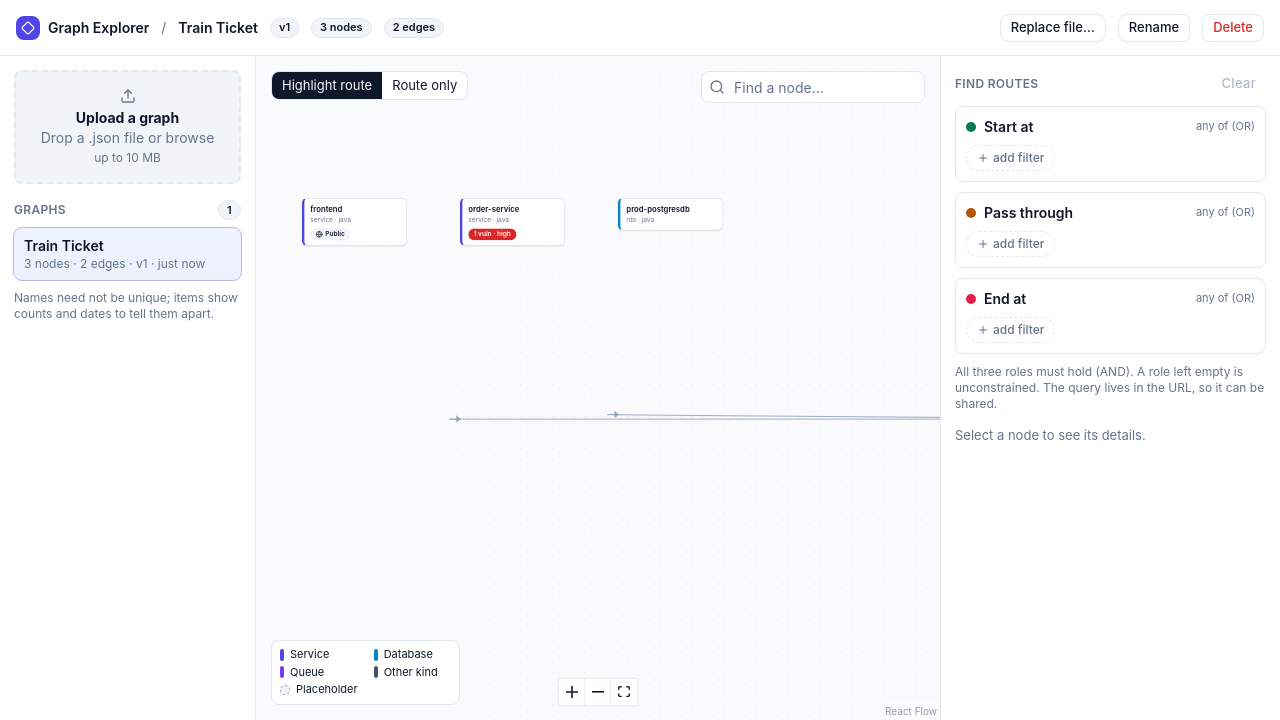
graph view › redraws after the file is replaced
Expected: the element with test id "node-frontend" is shown, [302,198,406,246]
Step 1. Click the button "Rename" → (1154, 28), box [1118,14,1190,42]
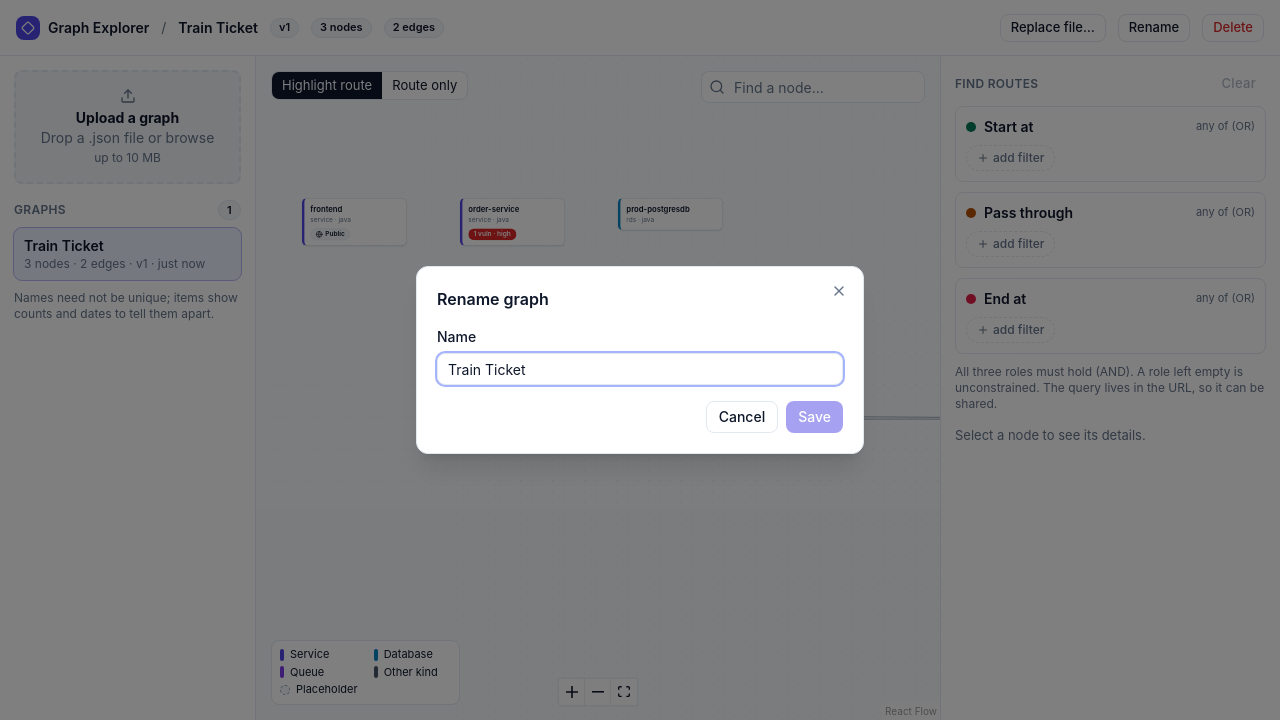
Step 2. Replace the text in the field labelled "Name" with "Renamed" → (640, 369), box [437,353,843,385]
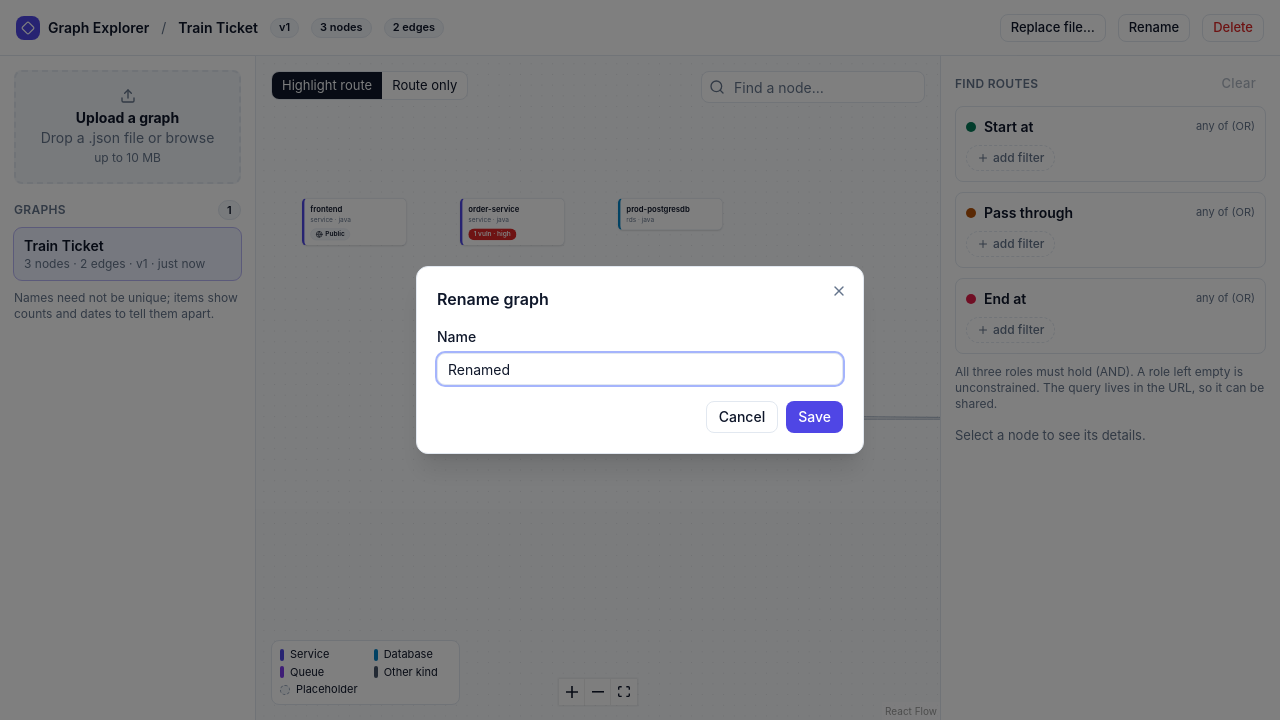
Step 3. Click the button "Save" → (815, 417), box [786,401,843,433]
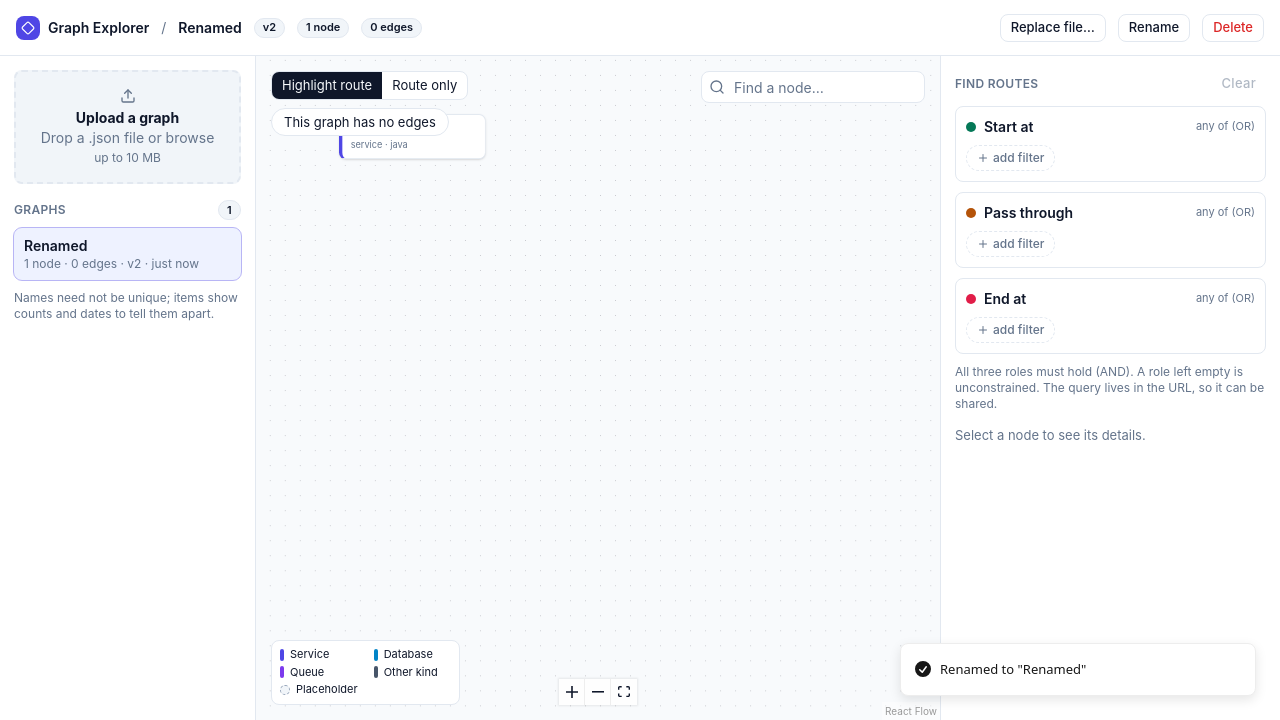
Expected: the element with test id "node-brand-new" is shown, [339,114,486,159]
Expected: the element with test id "node-frontend" is gone
